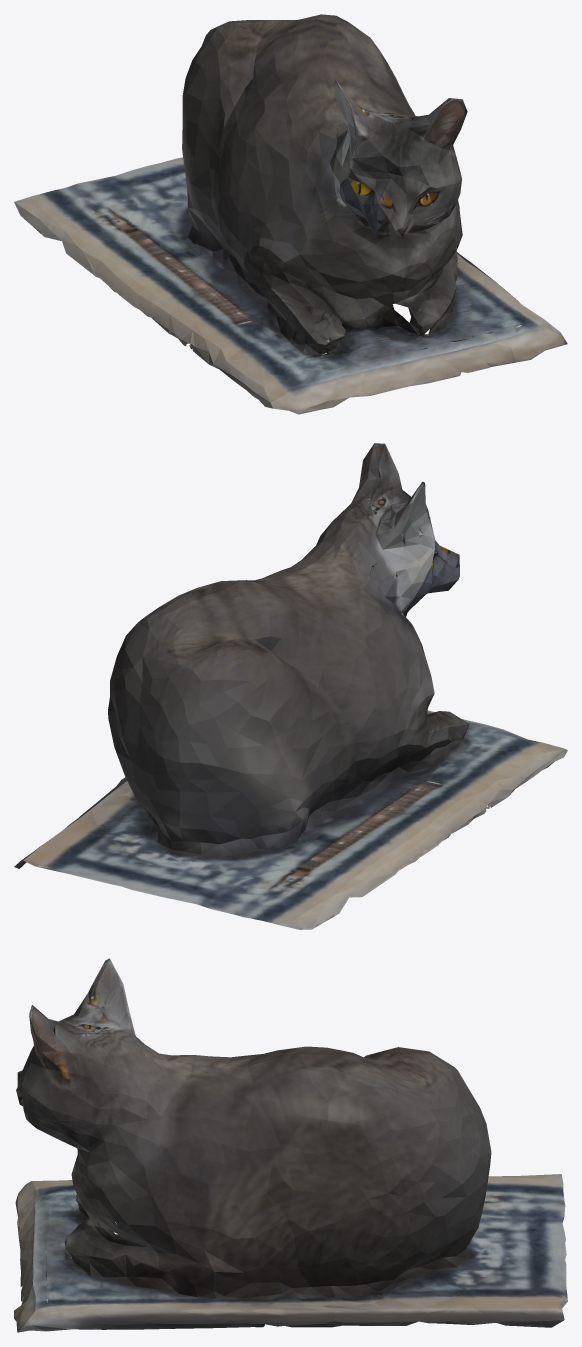
Rendered from result.gltf.
3 renders of one model, top to bottom at view 1: azimuth 30°, elevation 25°; view 2: azimuth 150°, elevation 25°; view 3: azimuth 270°, elevation 25°, orthographic.
Visible parts, largest first — view 1: temp; view 2: temp; view 3: temp.
Boxes of the visible parts, x1,y1,x2,y2 form: temp: (14,14,567,414); temp: (14,443,567,929); temp: (14,958,567,1332).
Size of the model in its own units: 127 by 115 by 200.
1 material, 1 textured.
